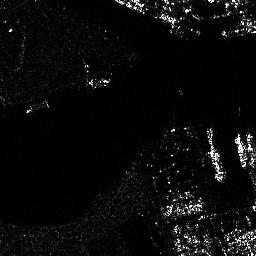ship: (206, 140, 226, 182), (219, 22, 256, 40), (235, 132, 249, 170), (25, 98, 50, 114)
